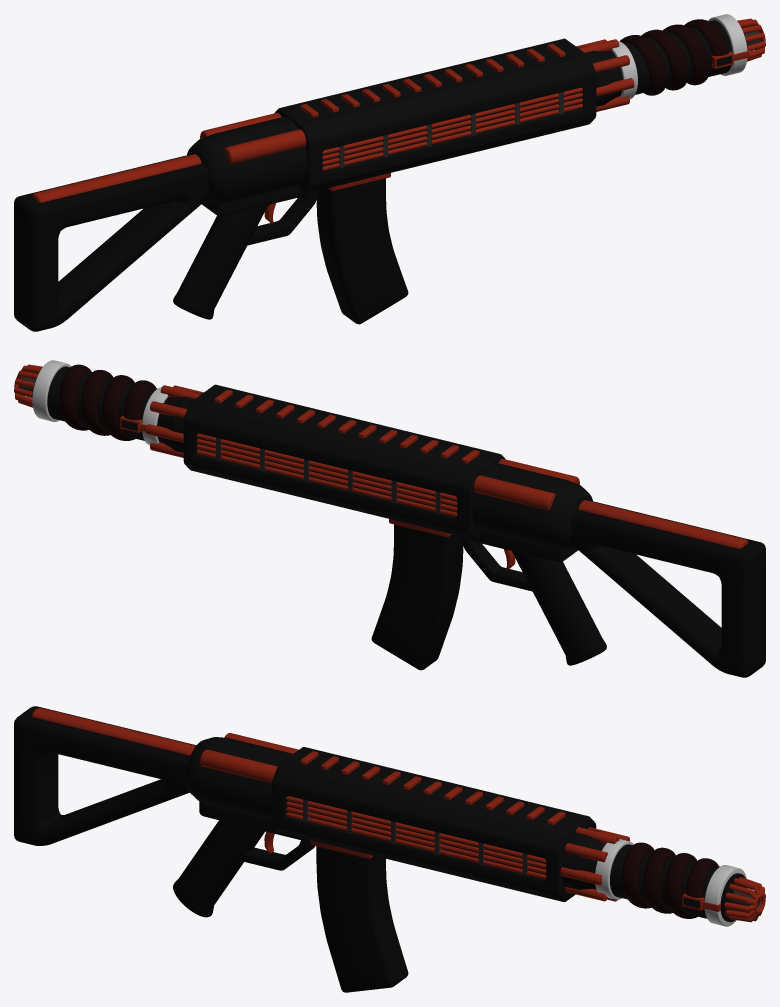
The model's file is raygun.obj.
The picture shows the model from 3 angles, top to bottom: view 1: azimuth 30°, elevation 25°; view 2: azimuth 150°, elevation 25°; view 3: azimuth 330°, elevation 25°; orthographic projection.
Visible parts, largest first — view 1: Barrel_Cube.007, Stock_Cube.009, Energy_Canister_Cube.015, Handle_Connector.001_Cylinder.010, Handle_Cylinder.013, Main_Grill_Cylinder.009, Spiral_Circle, Handle_Connector_Holders_Cylinder.015, Stock_Holder_Cylinder.016, Top_Bumps_Cube.019, Firing_Barrel_Cylinder, Supports_Cylinder.008 (+7 smaller); view 2: Barrel_Cube.007, Stock_Cube.009, Energy_Canister_Cube.015, Handle_Connector.001_Cylinder.010, Handle_Cylinder.013, Main_Grill_Cylinder.009, Spiral_Circle, Handle_Connector_Holders_Cylinder.015, Stock_Holder_Cylinder.016, Top_Bumps_Cube.019, Firing_Barrel_Cylinder, Supports_Cylinder.008 (+7 smaller); view 3: Barrel_Cube.007, Stock_Cube.009, Energy_Canister_Cube.015, Handle_Connector.001_Cylinder.010, Main_Grill_Cylinder.009, Handle_Cylinder.013, Spiral_Circle, Stock_Holder_Cylinder.016, Top_Bumps_Cube.019, Handle_Connector_Holders_Cylinder.015, Firing_Barrel_Cylinder, Supports_Cylinder.008 (+7 smaller).
Boxes of the visible parts, left/top/right/bottom form: Barrel_Cube.007: left=274, top=38, right=596, bottom=193; Stock_Cube.009: left=14, top=155, right=209, bottom=331; Energy_Canister_Cube.015: left=316, top=178, right=408, bottom=324; Handle_Connector.001_Cylinder.010: left=187, top=117, right=307, bottom=203; Handle_Cylinder.013: left=173, top=205, right=267, bottom=319; Main_Grill_Cylinder.009: left=322, top=87, right=582, bottom=170; Spiral_Circle: left=620, top=19, right=729, bottom=95; Handle_Connector_Holders_Cylinder.015: left=200, top=113, right=305, bottom=164; Stock_Holder_Cylinder.016: left=31, top=154, right=201, bottom=202; Top_Bumps_Cube.019: left=300, top=43, right=565, bottom=117; Firing_Barrel_Cylinder: left=622, top=20, right=732, bottom=94; Supports_Cylinder.008: left=576, top=39, right=634, bottom=111; Barrel_Cube.007: left=183, top=384, right=505, bottom=539; Stock_Cube.009: left=570, top=501, right=765, bottom=677; Energy_Canister_Cube.015: left=371, top=524, right=463, bottom=670; Handle_Connector.001_Cylinder.010: left=472, top=463, right=592, bottom=549; Handle_Cylinder.013: left=512, top=551, right=606, bottom=665; Main_Grill_Cylinder.009: left=197, top=433, right=457, bottom=516; Spiral_Circle: left=59, top=364, right=155, bottom=440; Handle_Connector_Holders_Cylinder.015: left=474, top=459, right=579, bottom=510; Stock_Holder_Cylinder.016: left=578, top=500, right=748, bottom=548; Top_Bumps_Cube.019: left=214, top=389, right=479, bottom=463; Firing_Barrel_Cylinder: left=47, top=366, right=157, bottom=440; Supports_Cylinder.008: left=145, top=385, right=203, bottom=457; Barrel_Cube.007: left=272, top=747, right=596, bottom=901; Stock_Cube.009: left=14, top=706, right=196, bottom=845; Energy_Canister_Cube.015: left=316, top=846, right=408, bottom=992; Handle_Connector.001_Cylinder.010: left=186, top=737, right=292, bottom=820; Main_Grill_Cylinder.009: left=286, top=796, right=546, bottom=879; Handle_Cylinder.013: left=173, top=820, right=265, bottom=917; Spiral_Circle: left=622, top=842, right=718, bottom=918; Stock_Holder_Cylinder.016: left=31, top=707, right=195, bottom=755; Top_Bumps_Cube.019: left=300, top=751, right=565, bottom=824; Handle_Connector_Holders_Cylinder.015: left=200, top=733, right=298, bottom=783; Firing_Barrel_Cylinder: left=610, top=844, right=719, bottom=918; Supports_Cylinder.008: left=560, top=827, right=629, bottom=901.
Bounding box in the file's own units: 17.24 × 4.93 × 1.53.
